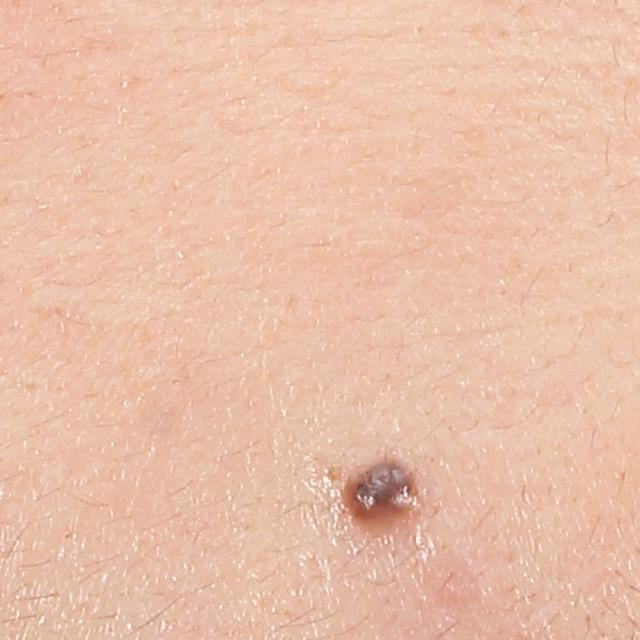nevus: (342, 452, 428, 524)
